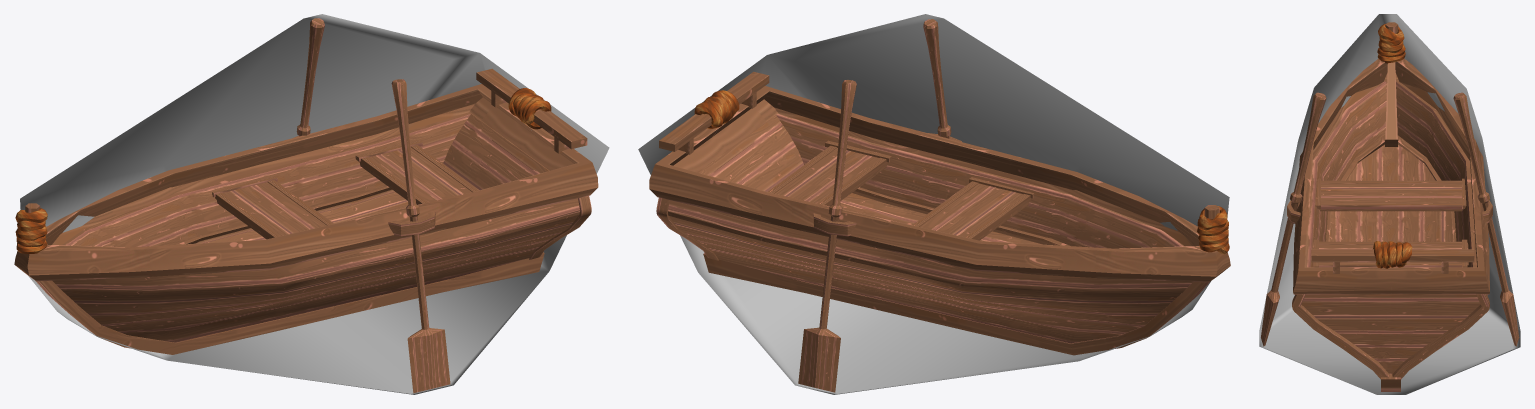
The model's file is SM_Ship_Boat.gltf.
3 views of the same model, side by side, from view 1: azimuth 30°, elevation 25°; view 2: azimuth 150°, elevation 25°; view 3: azimuth 270°, elevation 25° (orthographic). The views are drawn at different scales.
Visible parts, largest first — view 1: SM_Ship_Boat_LOD0, SM_Ship_Boat_ConvexHulls; view 2: SM_Ship_Boat_LOD0, SM_Ship_Boat_ConvexHulls; view 3: SM_Ship_Boat_LOD0, SM_Ship_Boat_ConvexHulls.
Part boxes in pixels (x1=…): SM_Ship_Boat_LOD0: x1=14, y1=18, x2=598, y2=393; SM_Ship_Boat_ConvexHulls: x1=20, y1=14, x2=609, y2=394; SM_Ship_Boat_LOD0: x1=649, y1=19, x2=1230, y2=392; SM_Ship_Boat_ConvexHulls: x1=638, y1=14, x2=1229, y2=394; SM_Ship_Boat_LOD0: x1=1261, y1=22, x2=1519, y2=391; SM_Ship_Boat_ConvexHulls: x1=1259, y1=14, x2=1520, y2=394.
Size of what is drawn, in the model's own units: 4.71 by 2.47 by 2.35.
Materials: 4 (3 with a texture image).
